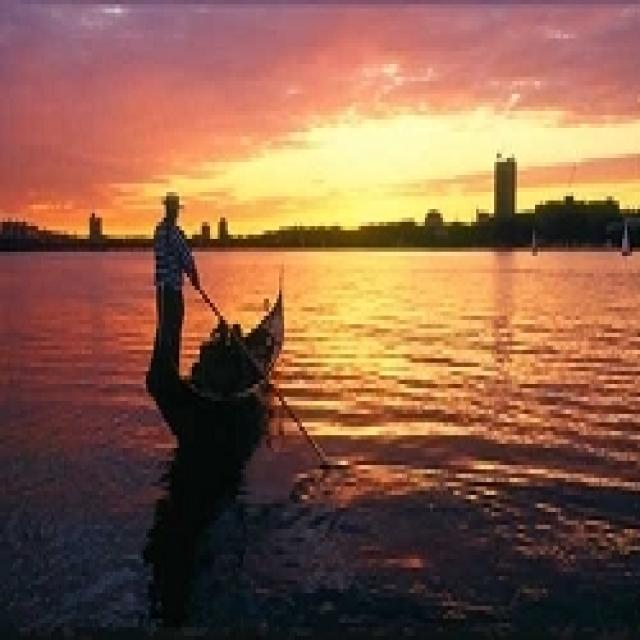Boat: (138, 292, 310, 457)
People: (149, 182, 201, 309)
